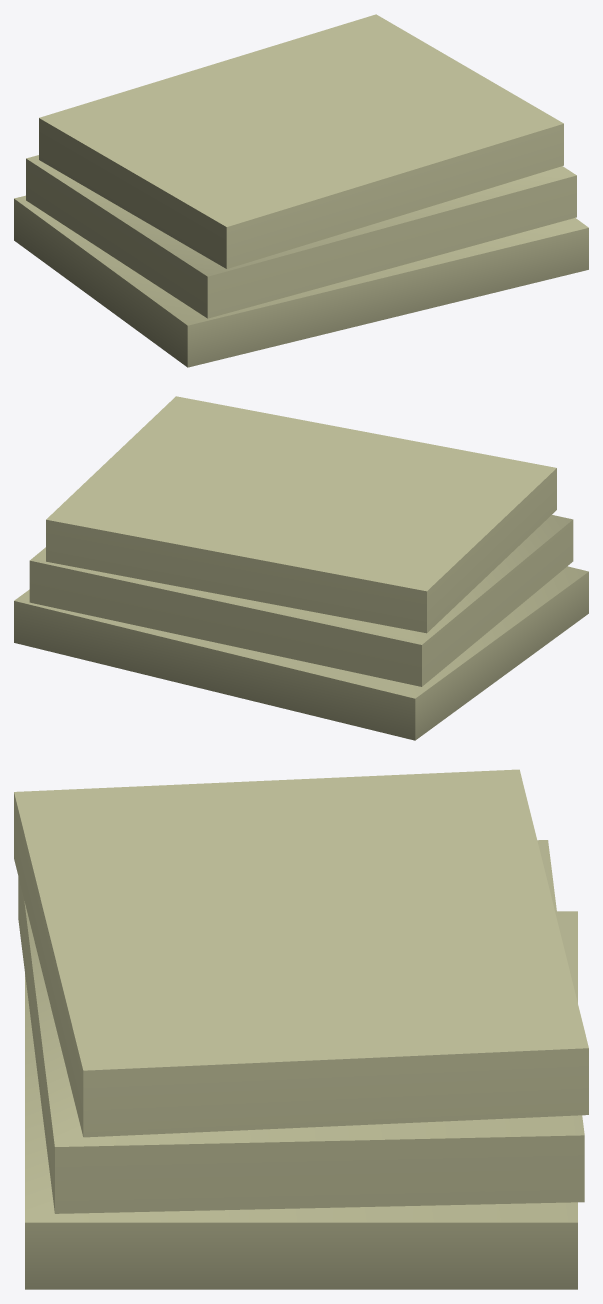
File: tela.glb
3 renders of one model, top to bottom at view 1: azimuth 30°, elevation 25°; view 2: azimuth 150°, elevation 25°; view 3: azimuth 270°, elevation 25°, orthographic. The views are drawn at different scales.
Parts seen in each view (by area): view 1: tela; view 2: tela; view 3: tela.
Part boxes in pixels (x1,y1,x2,y2): tela: [14, 14, 588, 367]; tela: [14, 396, 588, 740]; tela: [14, 769, 588, 1289].
Size of the model in its own units: 0.2 by 0.064 by 0.1561.
